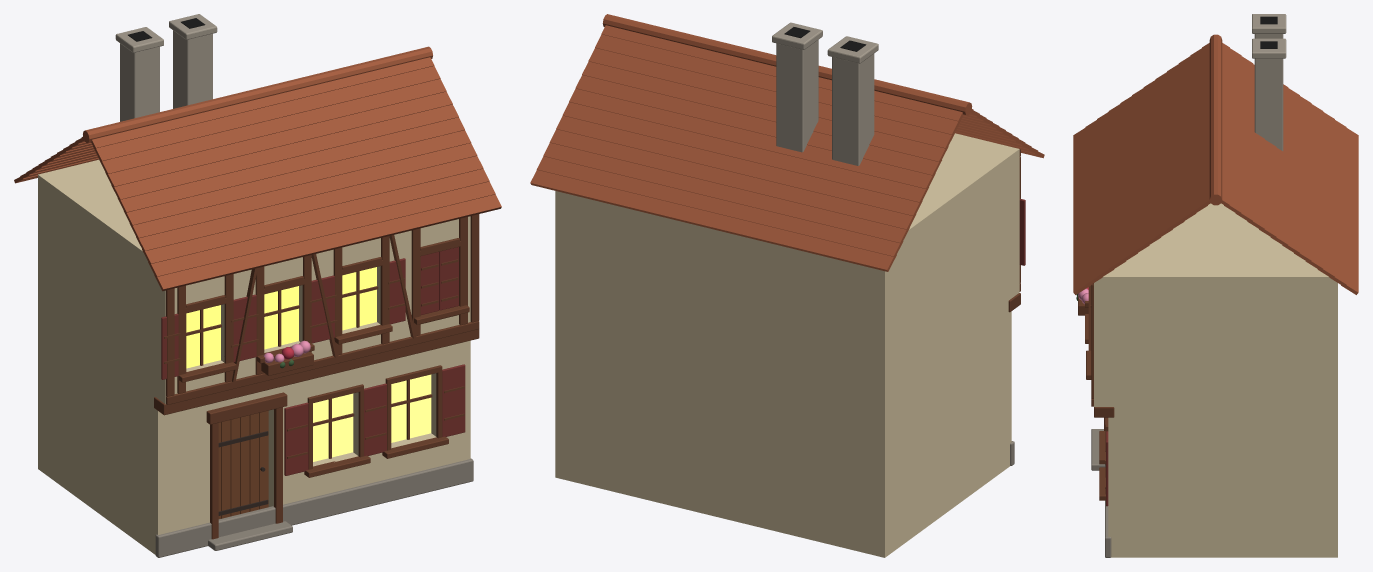
The model's file is casa_6x4.glb.
3 views of the same model, side by side, from view 1: azimuth 30°, elevation 25°; view 2: azimuth 150°, elevation 25°; view 3: azimuth 270°, elevation 25° (orthographic). The views are drawn at different scales.
Parts seen in each view (by area): view 1: casa_6x4_pa_dentro, casa_6x4_pb_dentro, casa_6x4_pb, casa_6x4_zocalo, casa_6x4_tejado_s_0, casa_6x4_tejado_s_8, casa_6x4_tejado_s_6, casa_6x4_tejado_s_7, casa_6x4_tejado_s_2, casa_6x4_tejado_s_1, casa_6x4_tejado_s_3, casa_6x4_tejado_s_10 (+63 smaller); view 2: casa_6x4_pb_dentro, casa_6x4_pa_dentro, casa_6x4_tejado_n_0, casa_6x4_tejado_n_3, casa_6x4_tejado_n_4, casa_6x4_tejado_n_1, casa_6x4_tejado_n_5, casa_6x4_tejado_n_2, casa_6x4_tejado_n_6, casa_6x4_tejado_n_7, casa_6x4_tejado_n_8, casa_6x4_tejado_n_9 (+9 smaller); view 3: casa_6x4_pa_dentro, casa_6x4_pb_dentro, casa_6x4_pb.008, casa_6x4_chimenea0, casa_6x4_tejado_cumbrera, casa_6x4_tejado_n_0, casa_6x4_tejado_s_0, casa_6x4_tejado_n_9, casa_6x4_tejado_s_9, casa_6x4_tejado_s_3, casa_6x4_tejado_s_6, casa_6x4_tejado_n_3 (+21 smaller).
Part boxes in pixels (bbox=[...]): casa_6x4_pa_dentro: bbox=[38, 159, 157, 398]; casa_6x4_pb_dentro: bbox=[38, 311, 148, 549]; casa_6x4_pb: bbox=[149, 392, 216, 554]; casa_6x4_zocalo: bbox=[155, 458, 473, 557]; casa_6x4_tejado_s_0: bbox=[154, 194, 501, 291]; casa_6x4_tejado_s_8: bbox=[105, 91, 452, 187]; casa_6x4_tejado_s_6: bbox=[117, 117, 464, 213]; casa_6x4_tejado_s_7: bbox=[111, 104, 458, 200]; casa_6x4_tejado_s_2: bbox=[142, 168, 489, 263]; casa_6x4_tejado_s_1: bbox=[148, 181, 495, 276]; casa_6x4_tejado_s_3: bbox=[136, 156, 483, 250]; casa_6x4_tejado_s_10: bbox=[93, 66, 440, 161]; casa_6x4_pb_dentro: bbox=[555, 305, 1002, 557]; casa_6x4_pa_dentro: bbox=[555, 140, 1011, 391]; casa_6x4_tejado_n_0: bbox=[530, 170, 896, 271]; casa_6x4_tejado_n_3: bbox=[549, 129, 916, 229]; casa_6x4_tejado_n_4: bbox=[556, 115, 922, 216]; casa_6x4_tejado_n_1: bbox=[536, 156, 903, 256]; casa_6x4_tejado_n_5: bbox=[562, 102, 928, 203]; casa_6x4_tejado_n_2: bbox=[543, 143, 909, 244]; casa_6x4_tejado_n_6: bbox=[569, 88, 935, 188]; casa_6x4_tejado_n_7: bbox=[575, 75, 941, 176]; casa_6x4_tejado_n_8: bbox=[582, 61, 948, 161]; casa_6x4_tejado_n_9: bbox=[588, 48, 954, 149]; casa_6x4_pa_dentro: bbox=[1108, 203, 1337, 406]; casa_6x4_pb_dentro: bbox=[1125, 407, 1337, 557]; casa_6x4_pb.008: bbox=[1108, 407, 1125, 557]; casa_6x4_chimenea0: bbox=[1254, 58, 1283, 150]; casa_6x4_tejado_cumbrera: bbox=[1209, 34, 1222, 205]; casa_6x4_tejado_n_0: bbox=[1341, 128, 1358, 294]; casa_6x4_tejado_s_0: bbox=[1073, 128, 1090, 294]; casa_6x4_tejado_n_9: bbox=[1235, 56, 1253, 222]; casa_6x4_tejado_s_9: bbox=[1178, 56, 1196, 221]; casa_6x4_tejado_s_3: bbox=[1108, 104, 1126, 269]; casa_6x4_tejado_s_6: bbox=[1143, 80, 1161, 246]; casa_6x4_tejado_n_3: bbox=[1305, 104, 1323, 270].
Bounding box in the file's own units: 6.6 × 8.13 × 4.97.
